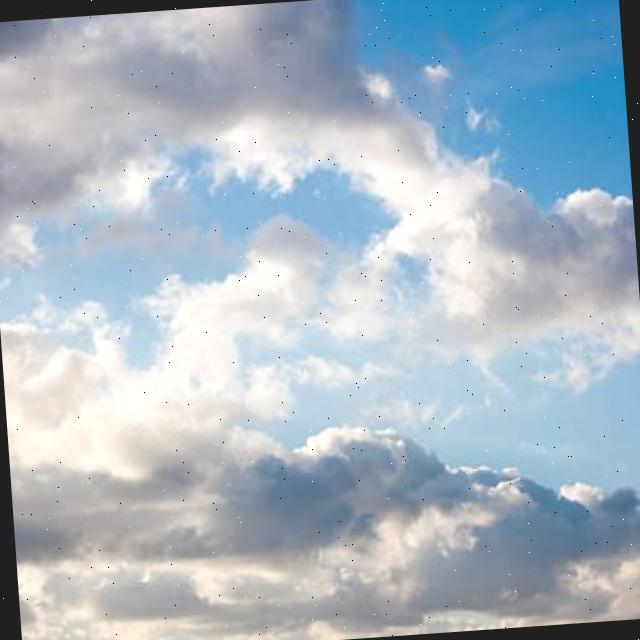As: (8, 392, 640, 640)
